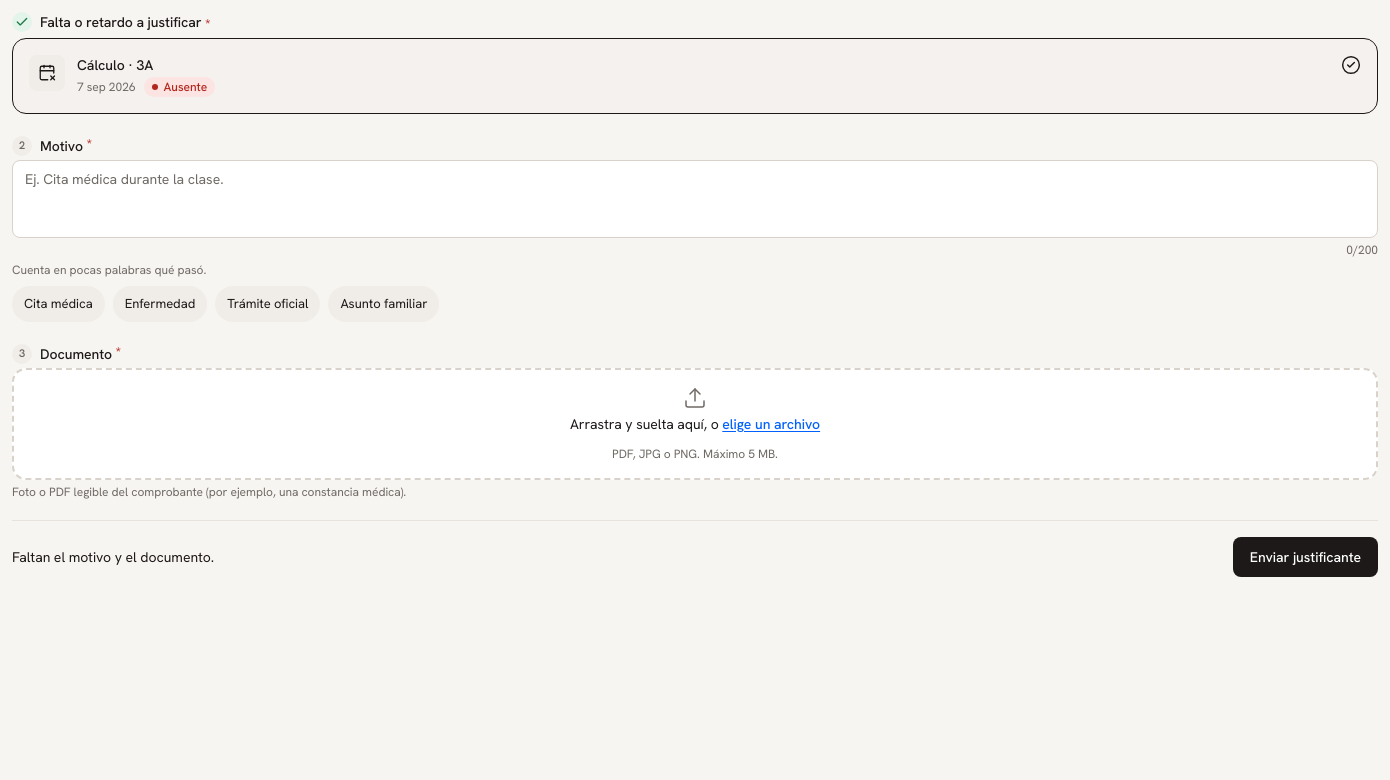
Scenario: FormularioJustificante › los motivos de ejemplo empiezan el texto y desaparecen cuando ya hay algo escrito
Click the button "Cita médica": coordinates (58, 304) top-left (12, 286), bottom-right (105, 322)
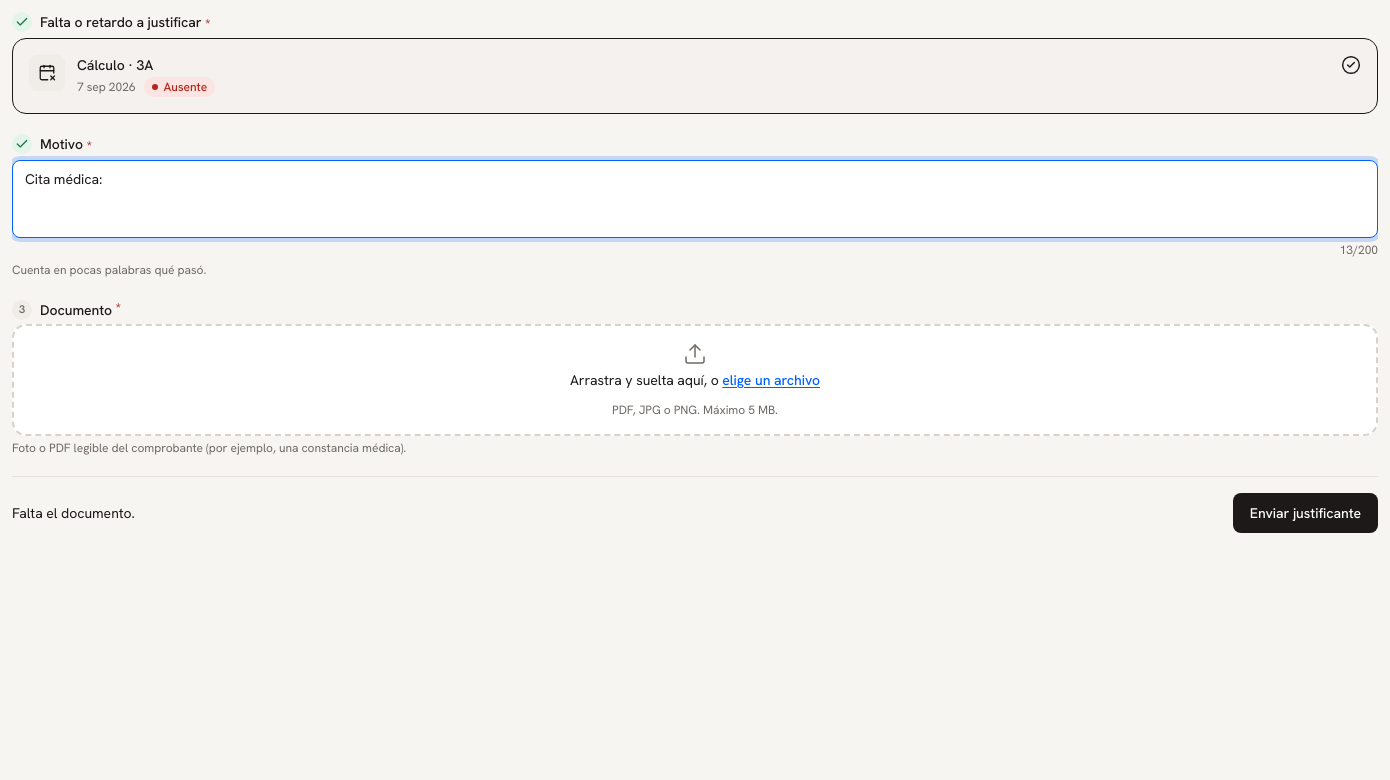
expect the text box labelled "Motivo *" holds "Cita médica: ": met, box top-left (12, 160), bottom-right (1378, 238)
